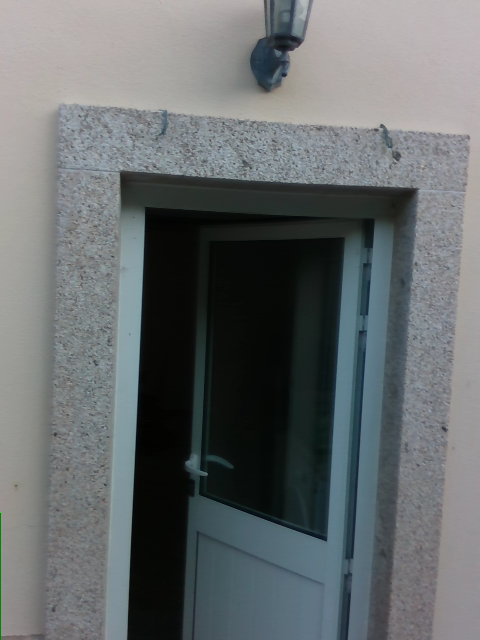semi: (102, 174, 394, 639)
